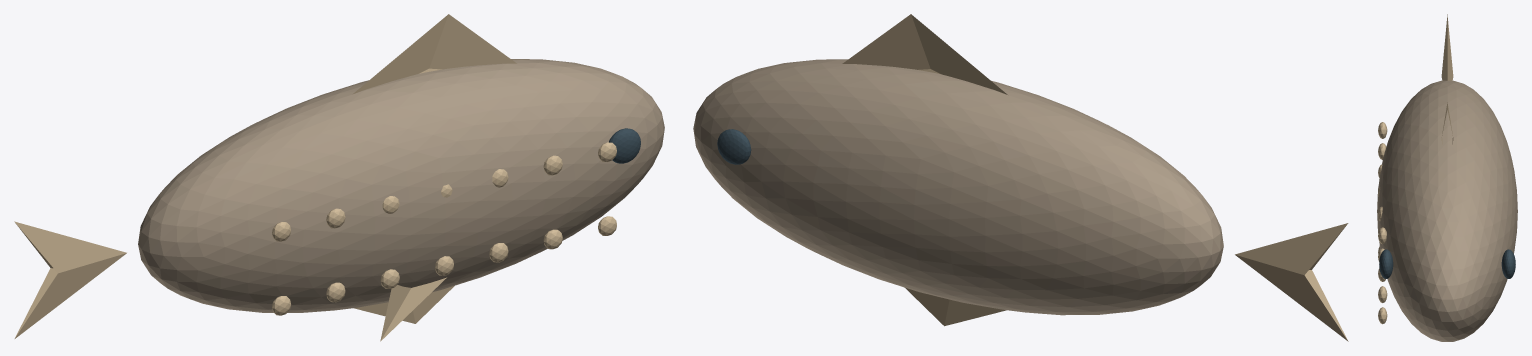
The model's file is Ikan_Kerapu.glb.
3 renders of one model, left to right at view 1: azimuth 30°, elevation 25°; view 2: azimuth 150°, elevation 25°; view 3: azimuth 270°, elevation 25°, orthographic. The views are drawn at different scales.
Parts seen in each view (by area): view 1: Part_00, Part_01, Part_02, Part_04, Part_03, Part_05; view 2: Part_00, Part_01, Part_02, Part_03, Part_06; view 3: Part_00, Part_01, Part_05, Part_06, Part_13, Part_12, Part_14, Part_19.
Part boxes in pixels (bbox=[...]): Part_00: bbox=[138, 59, 664, 312]; Part_01: bbox=[14, 221, 126, 338]; Part_02: bbox=[352, 14, 516, 94]; Part_04: bbox=[380, 277, 446, 341]; Part_03: bbox=[354, 285, 454, 323]; Part_05: bbox=[609, 128, 640, 163]; Part_00: bbox=[693, 59, 1223, 315]; Part_01: bbox=[1235, 223, 1348, 341]; Part_02: bbox=[842, 14, 1007, 94]; Part_03: bbox=[904, 287, 1006, 326]; Part_06: bbox=[717, 129, 751, 164]; Part_00: bbox=[1377, 80, 1517, 341]; Part_01: bbox=[1441, 14, 1453, 80]; Part_05: bbox=[1379, 249, 1393, 278]; Part_06: bbox=[1501, 249, 1515, 278]; Part_13: bbox=[1378, 307, 1387, 324]; Part_12: bbox=[1378, 286, 1387, 302]; Part_14: bbox=[1378, 122, 1387, 138]; Part_19: bbox=[1378, 227, 1386, 244].
Bounding box in the file's own units: 1.51 × 0.6721 × 0.3572.
